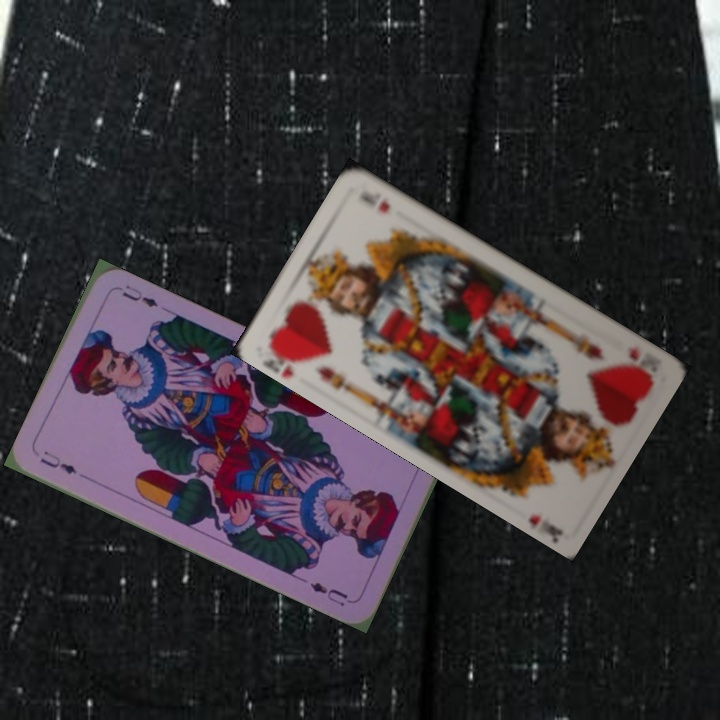EU: (36, 446, 79, 477)
HK: (260, 337, 306, 379), (616, 342, 663, 381)
